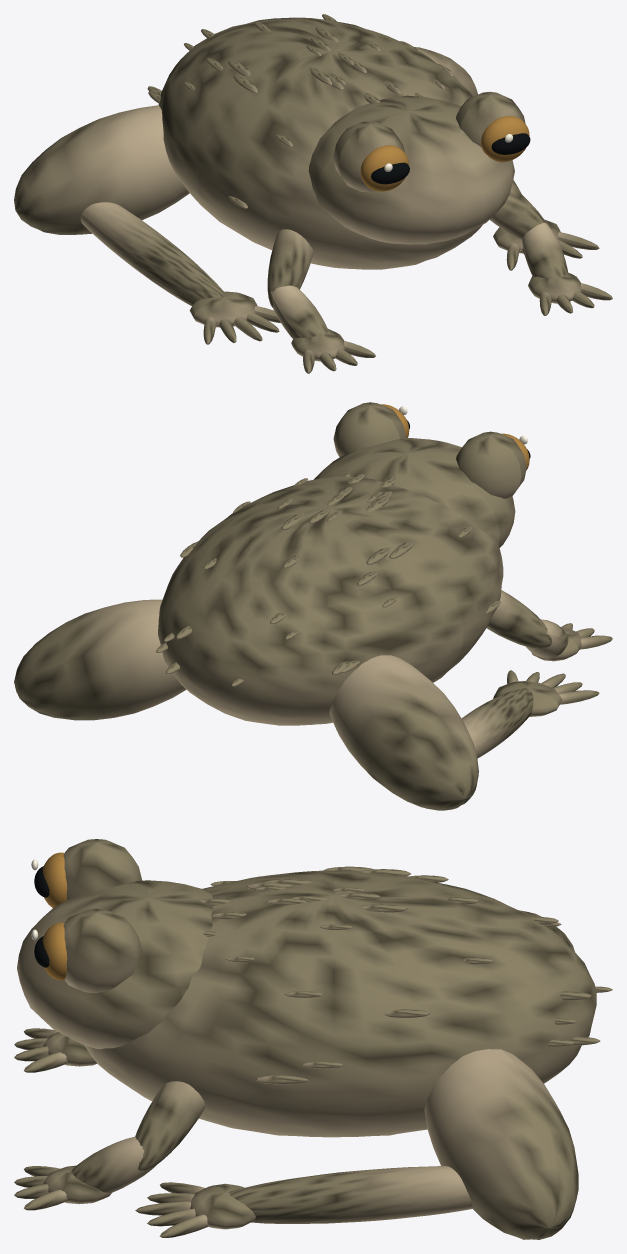
Rendered from om-observation-prototype.glb.
3 renders of one model, top to bottom at view 1: azimuth 30°, elevation 25°; view 2: azimuth 150°, elevation 25°; view 3: azimuth 270°, elevation 25°, orthographic. The views are drawn at different scales.
Parts seen in each view (by area): view 1: om-observation-study, eye--1, eye-1; view 2: om-observation-study; view 3: om-observation-study, eye-1, eye--1.
Boxes of the visible parts, <box> form: om-observation-study: <box>14,14,612,373</box>; eye--1: <box>360,145,409,191</box>; eye-1: <box>481,116,530,162</box>; om-observation-study: <box>14,402,612,810</box>; om-observation-study: <box>14,839,612,1239</box>; eye-1: <box>31,922,67,980</box>; eye--1: <box>31,852,67,907</box>.
Bounding box in the file's own units: 2.19 × 0.9856 × 2.1.
